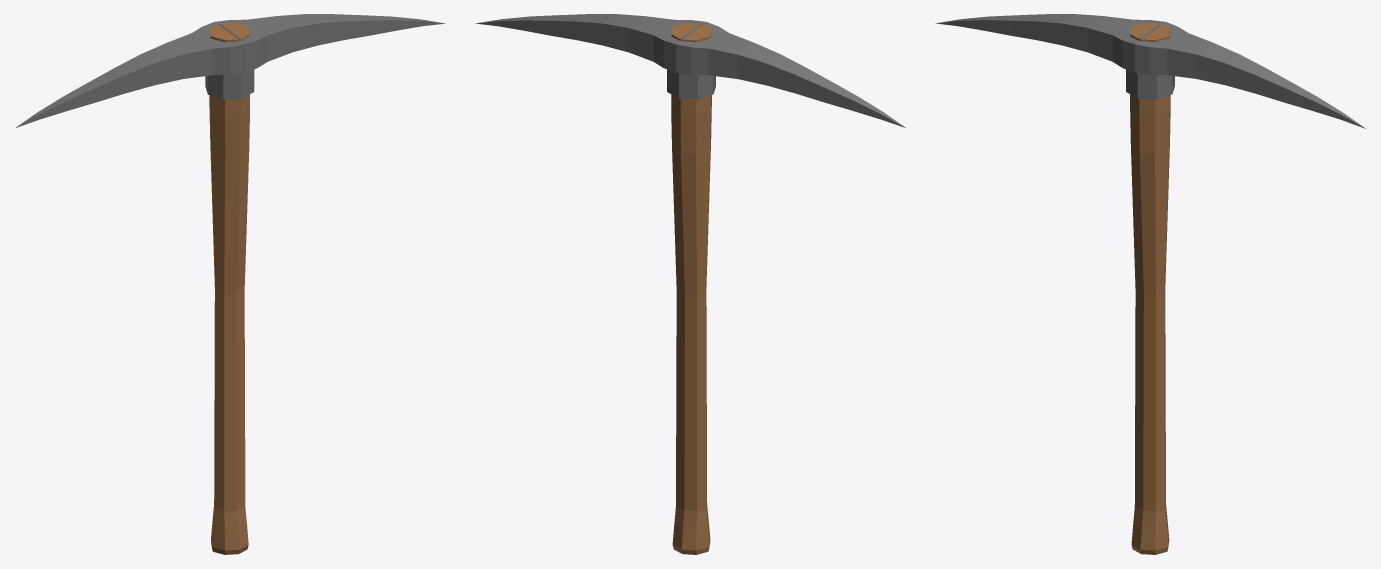
Rendered from pickaxe.fbx.
3 renders of one model, left to right at view 1: azimuth 30°, elevation 25°; view 2: azimuth 150°, elevation 25°; view 3: azimuth 330°, elevation 25°, orthographic.
Parts seen in each view (by area): view 1: Pickaxe; view 2: Pickaxe; view 3: Pickaxe.
Boxes of the visible parts, x1=… form: Pickaxe: x1=15, y1=14, x2=445, y2=554; Pickaxe: x1=475, y1=14, x2=905, y2=554; Pickaxe: x1=935, y1=14, x2=1365, y2=554.
Size of the model in its own units: 80.59 by 92.11 by 9.93.
